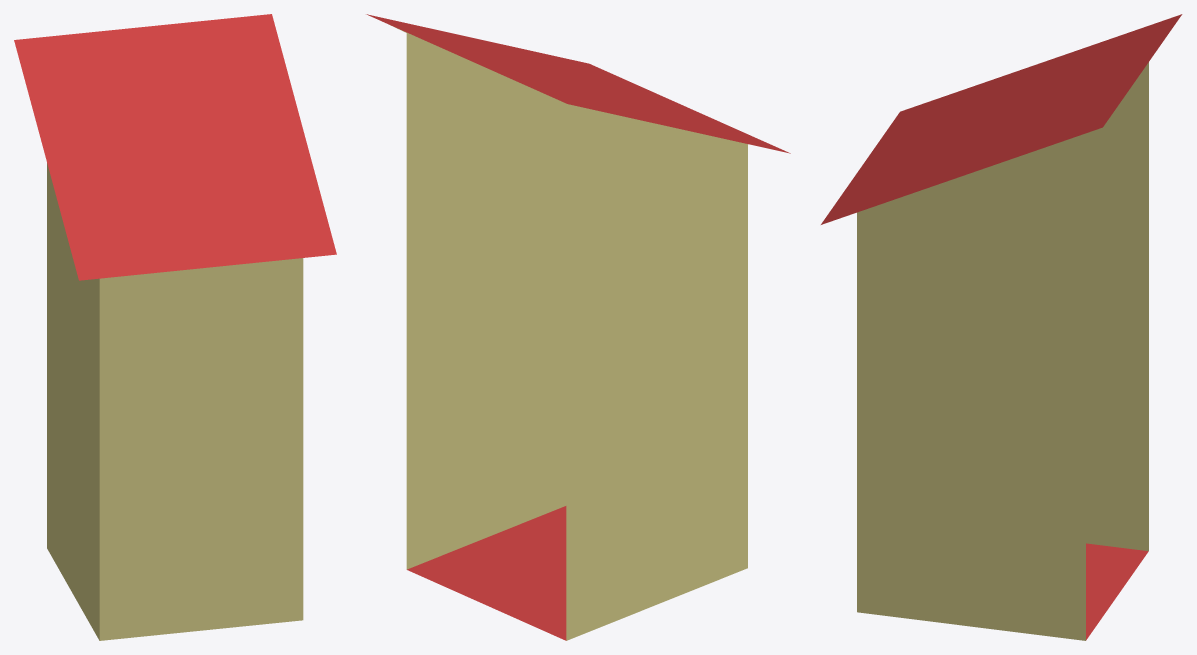
The picture shows the model from 3 angles, left to right: view 1: azimuth 30°, elevation 25°; view 2: azimuth 150°, elevation 25°; view 3: azimuth 270°, elevation 25°; orthographic projection. The views are drawn at different scales.
Size of the model in its own units: 6 by 6.17 by 9.93.
